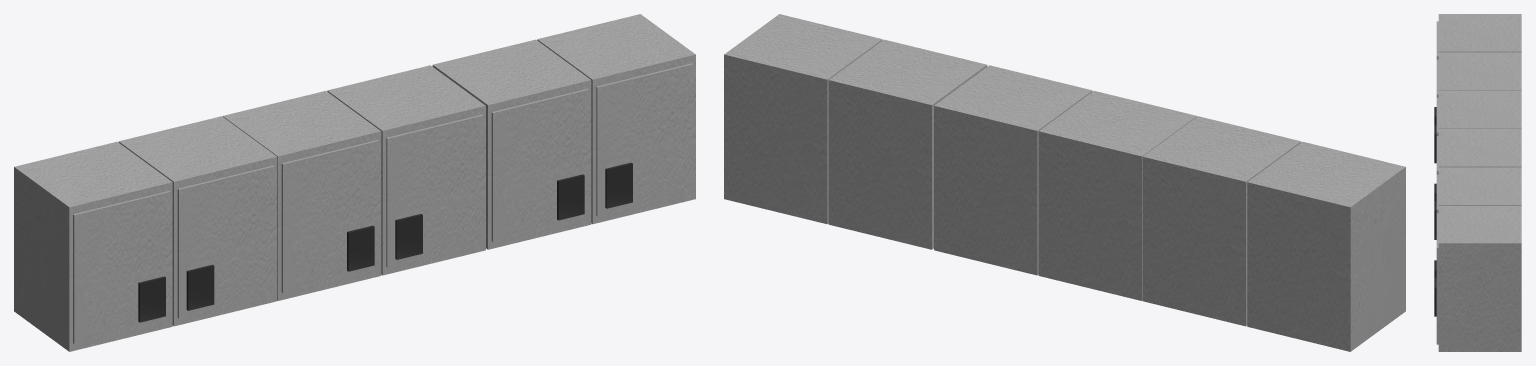
File: estante.obj
3 renders of one model, left to right at view 1: azimuth 30°, elevation 25°; view 2: azimuth 150°, elevation 25°; view 3: azimuth 270°, elevation 25°, orthographic. The views are drawn at different scales.
Parts seen in each view (by area): view 1: pCube1, pCube20, pCube12, pCube3, pCube7, pCube21, pCube13, pCube10, pCube18, pCube9, pCube5, pCube17 (+11 smaller); view 2: pCube1, pCube18, pCube5, pCube9, pCube17, pCube10; view 3: pCube17, pCube9, pCube10, pCube18, pCube1, pCube5, pCube20, pCube6, pCube16, pCube24, pCube13, pCube21 (+2 smaller).
Boxes of the visible parts, bbox=[...] form: pCube1: bbox=[14, 141, 172, 351]; pCube20: bbox=[596, 63, 693, 216]; pCube12: bbox=[386, 115, 483, 267]; pCube3: bbox=[73, 191, 170, 343]; pCube7: bbox=[178, 165, 274, 318]; pCube21: bbox=[492, 89, 588, 241]; pCube13: bbox=[282, 140, 378, 292]; pCube10: bbox=[222, 91, 381, 300]; pCube18: bbox=[432, 39, 591, 249]; pCube9: bbox=[327, 65, 485, 275]; pCube5: bbox=[118, 116, 277, 326]; pCube17: bbox=[537, 14, 695, 223]; pCube1: bbox=[1247, 141, 1405, 351]; pCube18: bbox=[828, 39, 987, 249]; pCube5: bbox=[1142, 116, 1301, 326]; pCube9: bbox=[934, 65, 1092, 275]; pCube17: bbox=[724, 14, 882, 224]; pCube10: bbox=[1038, 91, 1197, 300]; pCube17: bbox=[1438, 205, 1521, 351]; pCube9: bbox=[1438, 128, 1521, 167]; pCube10: bbox=[1438, 90, 1521, 128]; pCube18: bbox=[1438, 167, 1521, 205]; pCube1: bbox=[1438, 14, 1521, 52]; pCube5: bbox=[1438, 52, 1521, 90]; pCube20: bbox=[1436, 213, 1438, 344]; pCube6: bbox=[1434, 124, 1436, 163]; pCube16: bbox=[1434, 201, 1436, 239]; pCube24: bbox=[1434, 278, 1436, 316]; pCube13: bbox=[1436, 97, 1438, 135]; pCube21: bbox=[1436, 174, 1438, 212].
Size of the model in its own units: 6.53 by 1.44 by 1.05.
2 materials, 2 textured.
